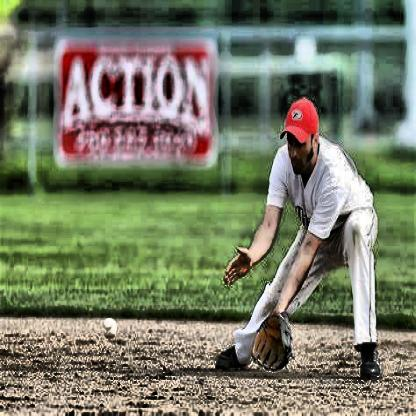baseball: (102, 313, 118, 343)
